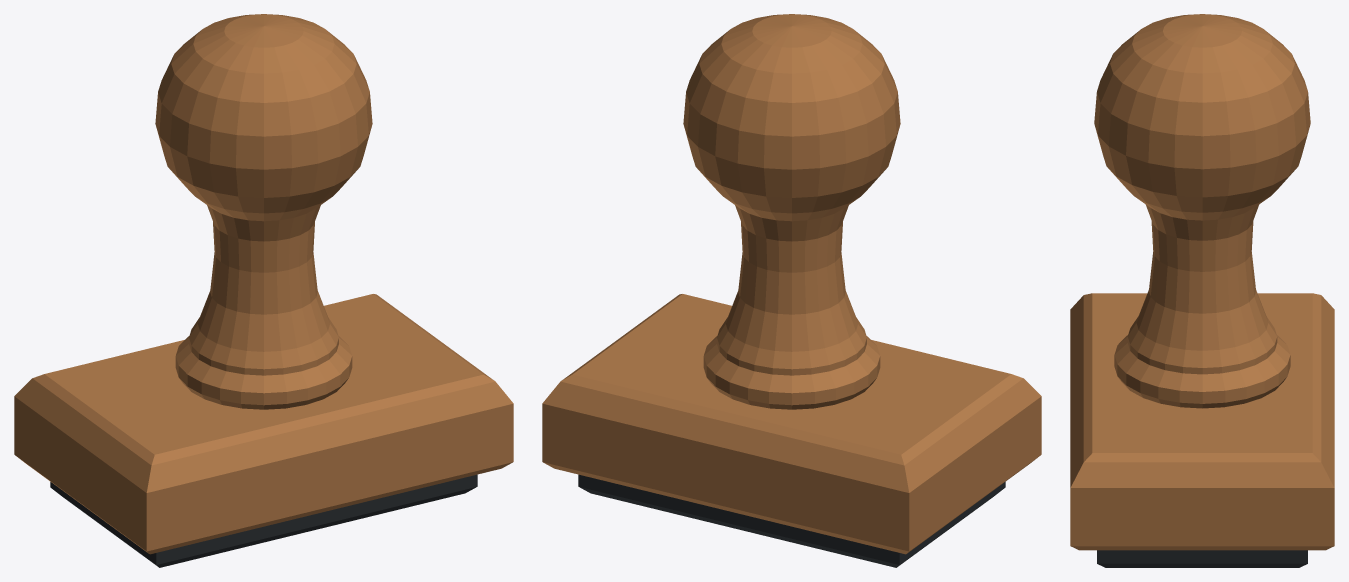
Rendered from NEW_RECOVERY_108_LOD2.glb.
3 renders of one model, left to right at view 1: azimuth 30°, elevation 25°; view 2: azimuth 150°, elevation 25°; view 3: azimuth 270°, elevation 25°, orthographic.
Parts seen in each view (by area): view 1: Traditional_hand_stamp; view 2: Traditional_hand_stamp; view 3: Traditional_hand_stamp.
Boxes of the visible parts, x1,y1,x2,y2 form: Traditional_hand_stamp: [14, 14, 513, 567]; Traditional_hand_stamp: [542, 14, 1041, 567]; Traditional_hand_stamp: [1070, 14, 1334, 567].
Bounding box in the file's own units: 0.048 × 0.0592 × 0.03.
